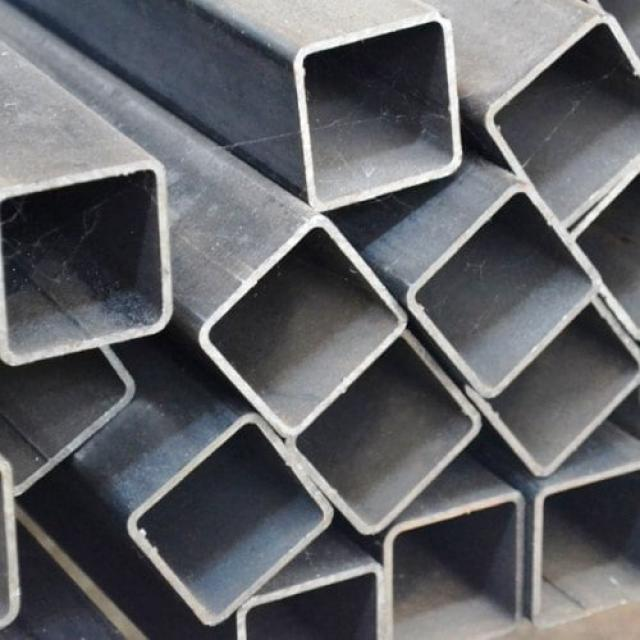pipe: (199, 219, 407, 438), (130, 416, 335, 629), (409, 182, 600, 396), (290, 335, 484, 536), (486, 13, 640, 227), (2, 162, 167, 361), (297, 12, 460, 209), (487, 300, 640, 478), (386, 498, 519, 640), (535, 466, 640, 625)
